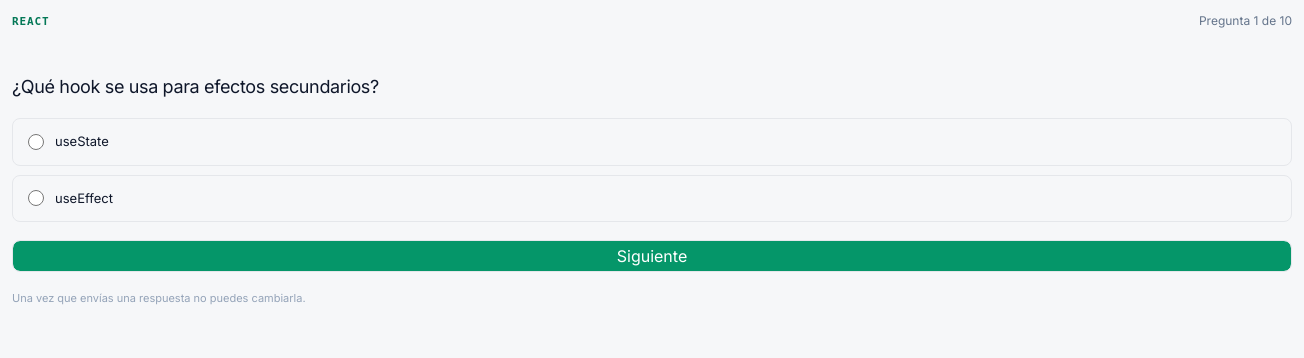
Test: SkillExamRunner › surfaces a server error without losing the question
Click the radio button labelled "useEffect" at {"x": 36, "y": 198}, box [28, 190, 44, 206]
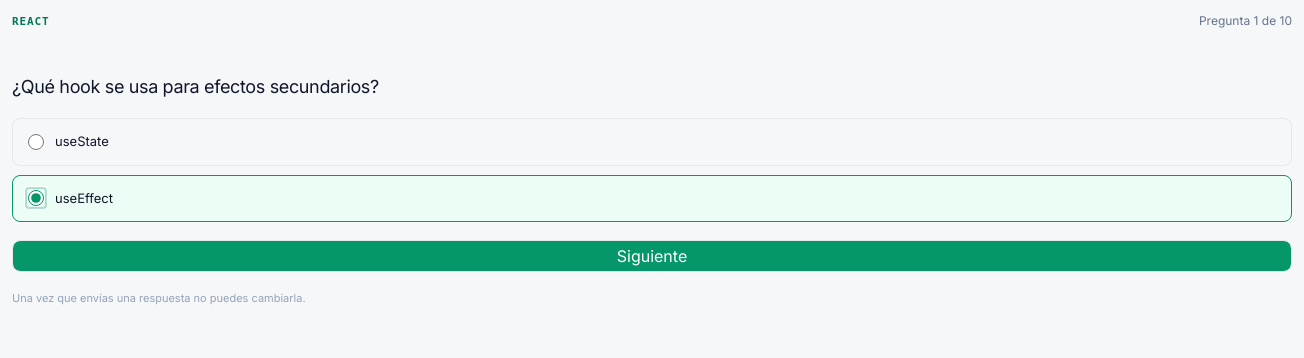
Click the button "Siguiente" at {"x": 652, "y": 256}, box [12, 240, 1292, 272]
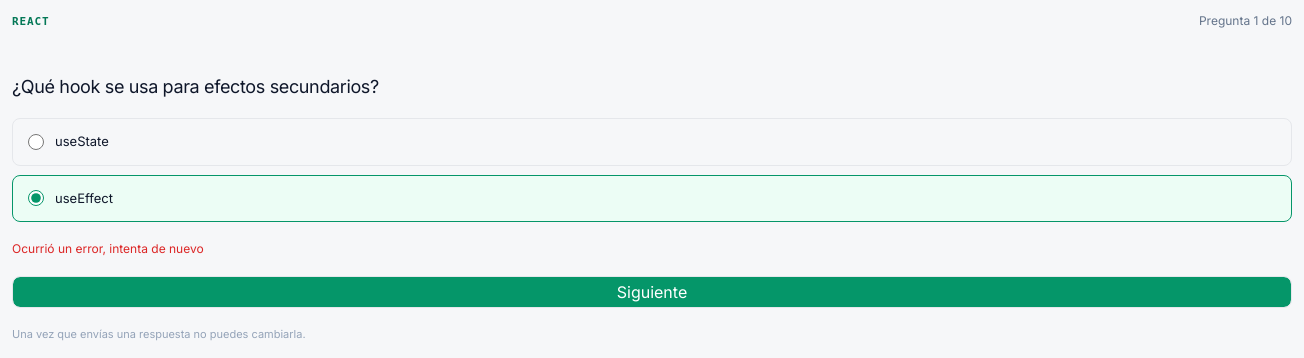
Expected: the heading "¿Qué hook se usa para efectos secundarios?" is shown, [12, 76, 379, 97]
Expected: the text "Ocurrió un error, intenta de nuevo" is shown, [12, 241, 204, 256]
